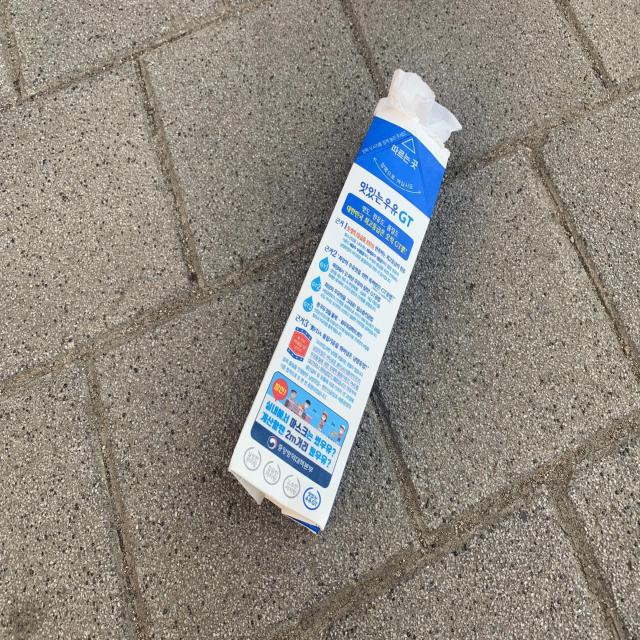paperpack: (229, 68, 461, 533)
